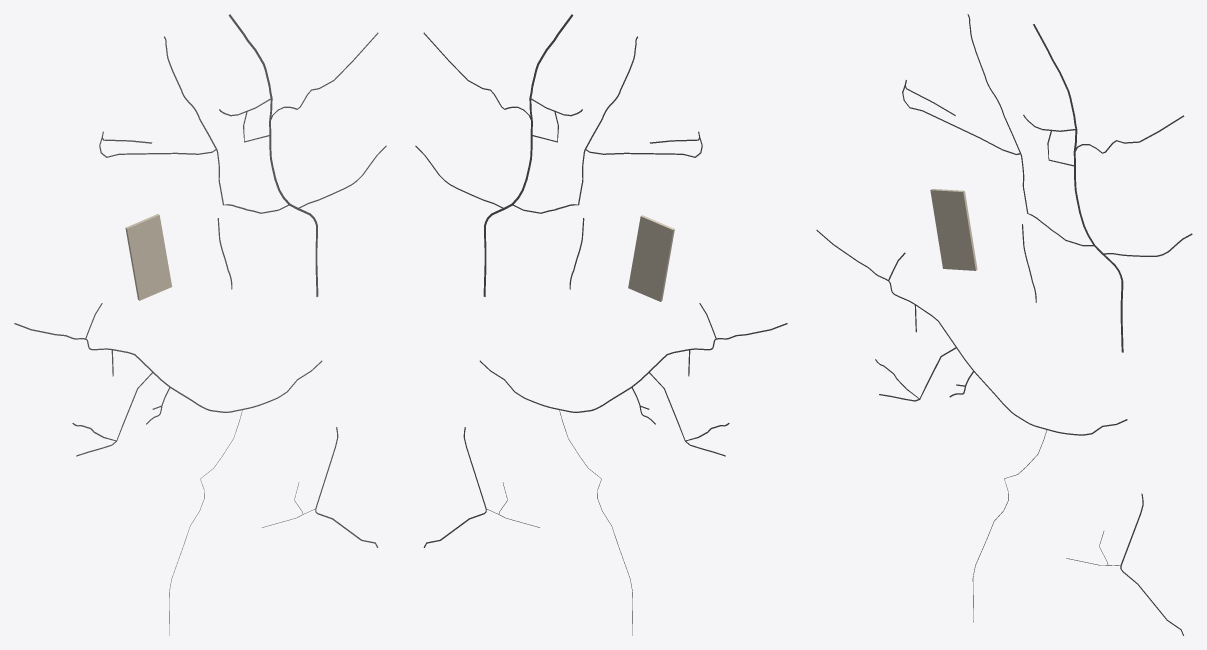
File: historic-palestine-09_20_3511_3148.glb
3 views of the same model, side by side, from view 1: azimuth 30°, elevation 25°; view 2: azimuth 150°, elevation 25°; view 3: azimuth 330°, elevation 25° (orthographic).
Parts seen in each view (by area): view 1: Building_, Road طريق إلى الخليل; view 2: Building_, Road طريق إلى الخليل; view 3: Building_, Road طريق إلى الخليل.
Part boxes in pixels (x1,y1,x2,y2): Building_: (125, 214, 172, 300); Road طريق إلى الخليل: (228, 14, 318, 296); Building_: (628, 215, 674, 301); Road طريق إلى الخليل: (483, 14, 573, 296); Building_: (930, 189, 977, 270); Road طريق إلى الخليل: (1033, 24, 1123, 352).
Bounding box in the file's own units: 970 × 1510 × 8.7.
